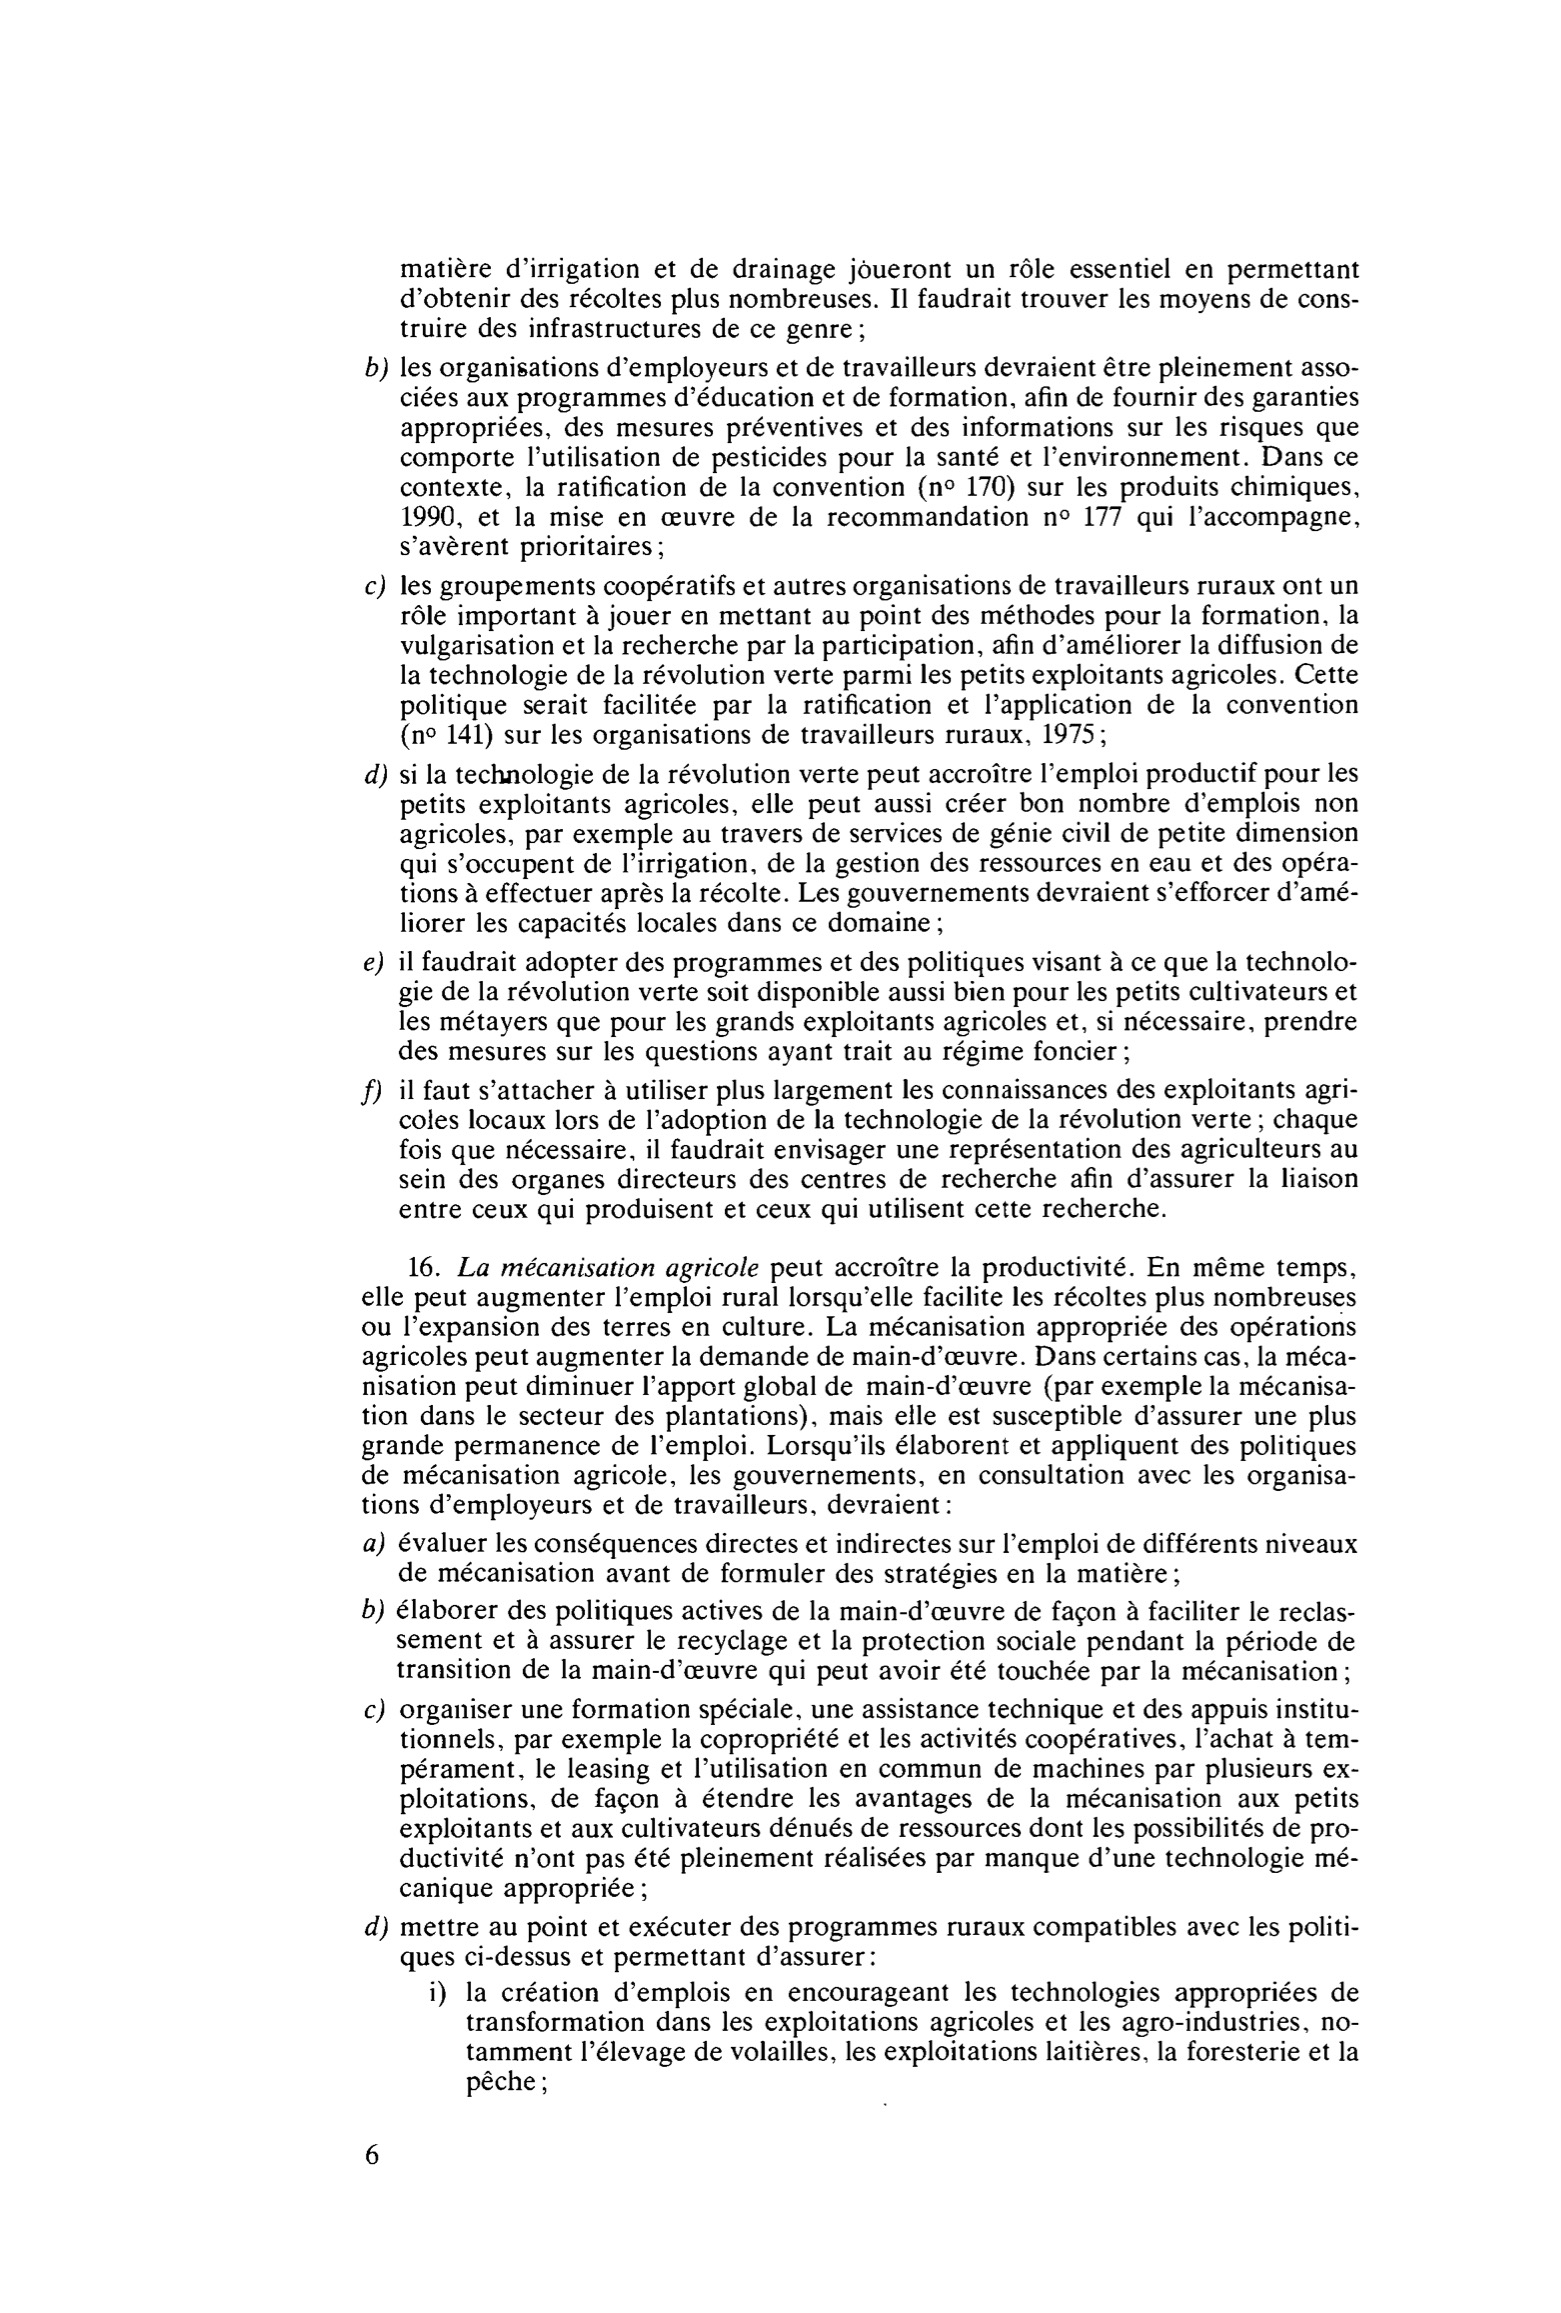MainZone-Continued: (373, 247, 1373, 348)
MainZone-ListItem: (350, 1245, 1368, 1519), (352, 1689, 1366, 1907), (354, 348, 1373, 564), (352, 564, 1371, 751), (354, 754, 1369, 939), (347, 1071, 1375, 1226), (361, 1975, 1371, 2104), (343, 944, 1369, 1068), (343, 1594, 1364, 1686), (352, 1907, 1369, 1979), (343, 1526, 1364, 1590)
NumberingZone: (355, 2135, 390, 2179)
